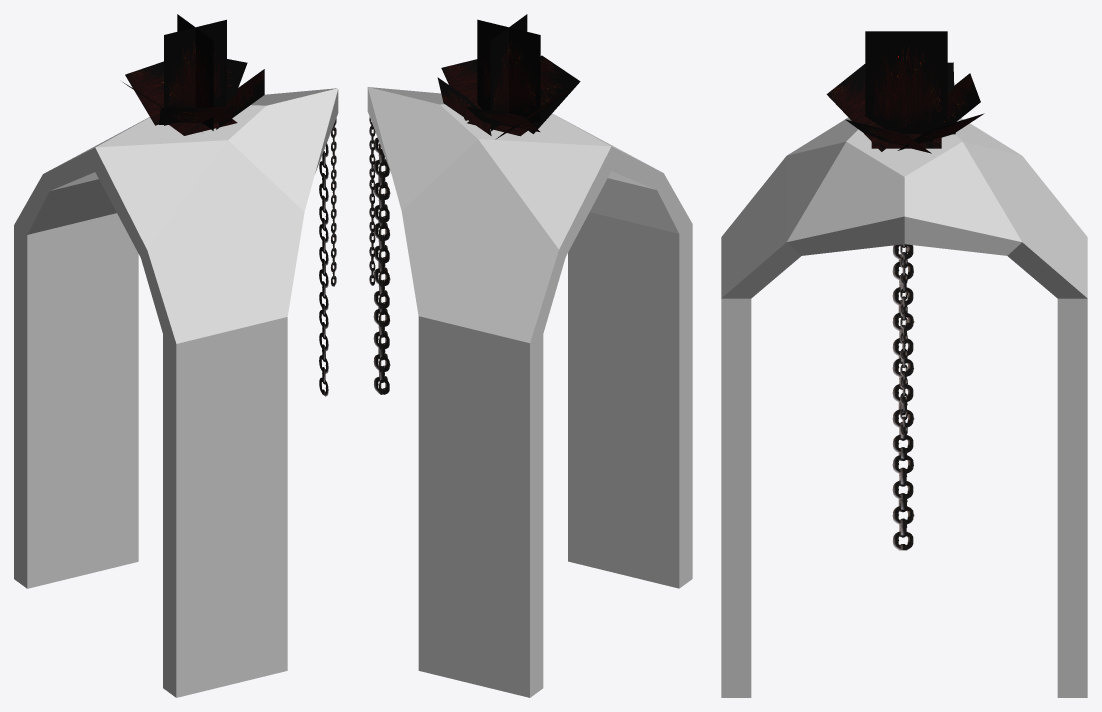
Rendered from BigGate.fbx.
3 views of the same model, side by side, from view 1: azimuth 30°, elevation 25°; view 2: azimuth 150°, elevation 25°; view 3: azimuth 270°, elevation 25° (orthographic). The views are drawn at different scales.
Visible parts, largest first — view 1: Plane.012; view 2: Plane.012; view 3: Plane.012.
Part boxes in pixels (box(x1,y1,x2,y2)): Plane.012: box(14, 14, 338, 697); Plane.012: box(367, 14, 692, 697); Plane.012: box(721, 31, 1087, 697).
Bounding box in the file's own units: 107 × 247 × 124.
